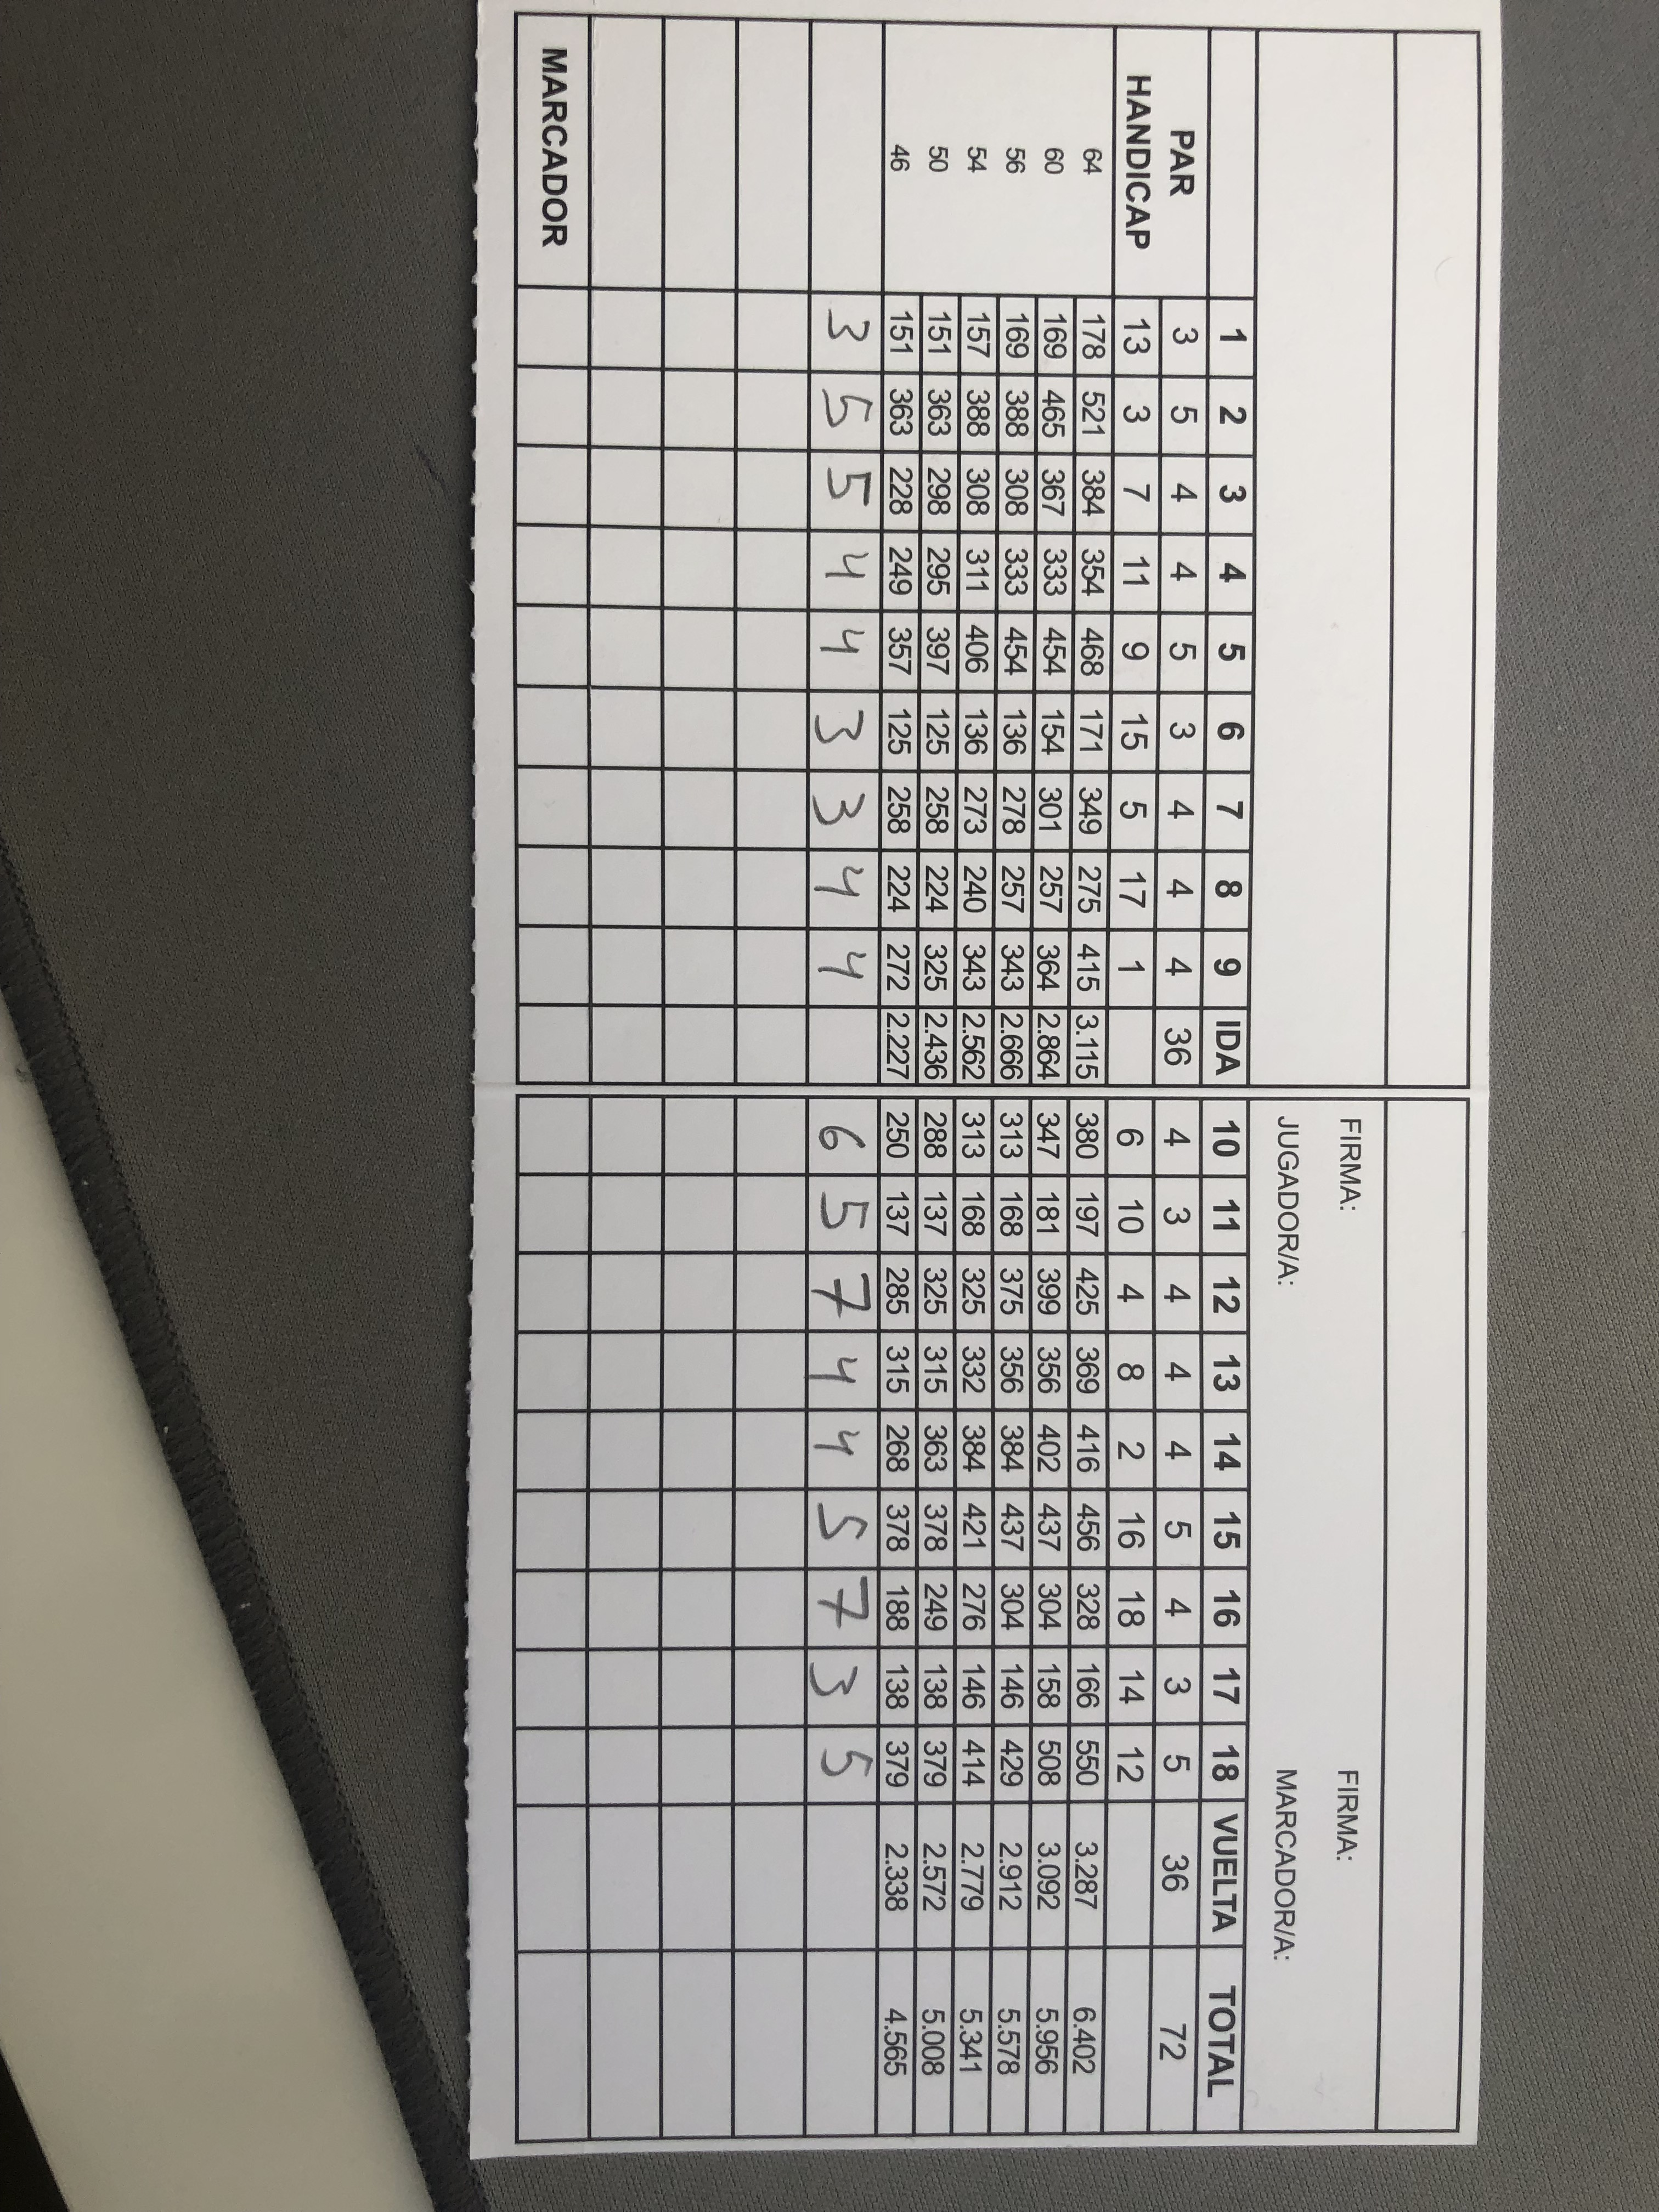par: (1159, 71, 1201, 2128)
score: (812, 287, 880, 1803)
